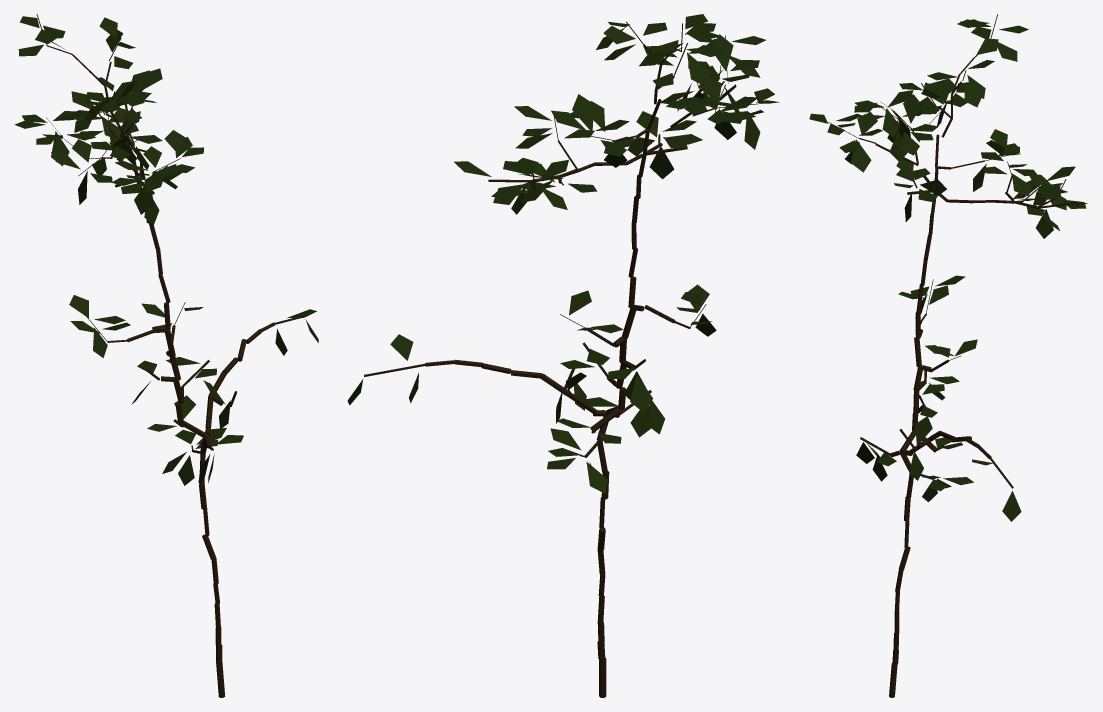
The model's file is tree_454.obj.
3 renders of one model, left to right at view 1: azimuth 30°, elevation 25°; view 2: azimuth 150°, elevation 25°; view 3: azimuth 270°, elevation 25°, orthographic. The views are drawn at different scales.
Parts seen in each view (by area): view 1: Leaves, TrunkAndBranches; view 2: Leaves, TrunkAndBranches; view 3: Leaves, TrunkAndBranches.
Boxes of the visible parts, x1=… form: Leaves: x1=14, y1=16, x2=318, y2=485; TrunkAndBranches: x1=36, y1=14, x2=300, y2=697; Leaves: x1=347, y1=14, x2=779, y2=493; TrunkAndBranches: x1=364, y1=22, x2=764, y2=697; Leaves: x1=809, y1=19, x2=1087, y2=521; TrunkAndBranches: x1=828, y1=14, x2=1078, y2=697.
Bounding box in the file's own units: 3.03 × 5.97 × 2.42.
